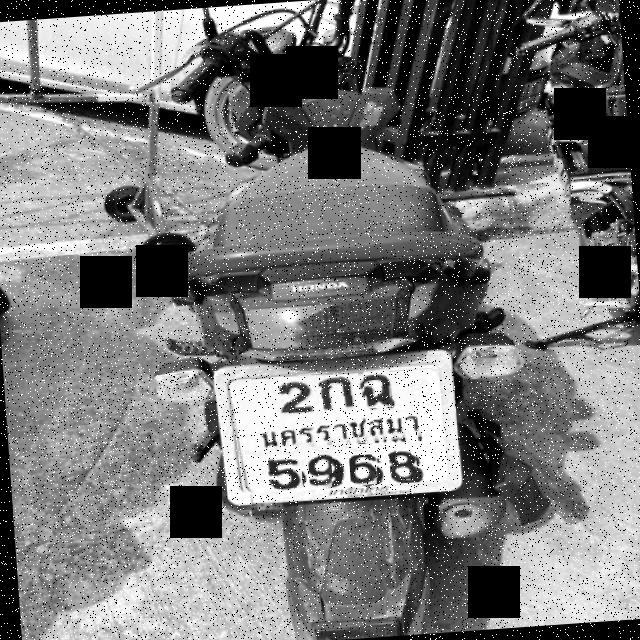letters: (262, 446, 304, 498), (271, 372, 314, 422), (316, 372, 360, 416), (362, 367, 392, 408), (387, 444, 417, 480), (348, 454, 378, 486), (307, 454, 333, 490)
license-plate: (228, 367, 446, 492)
province: (251, 413, 432, 454)
